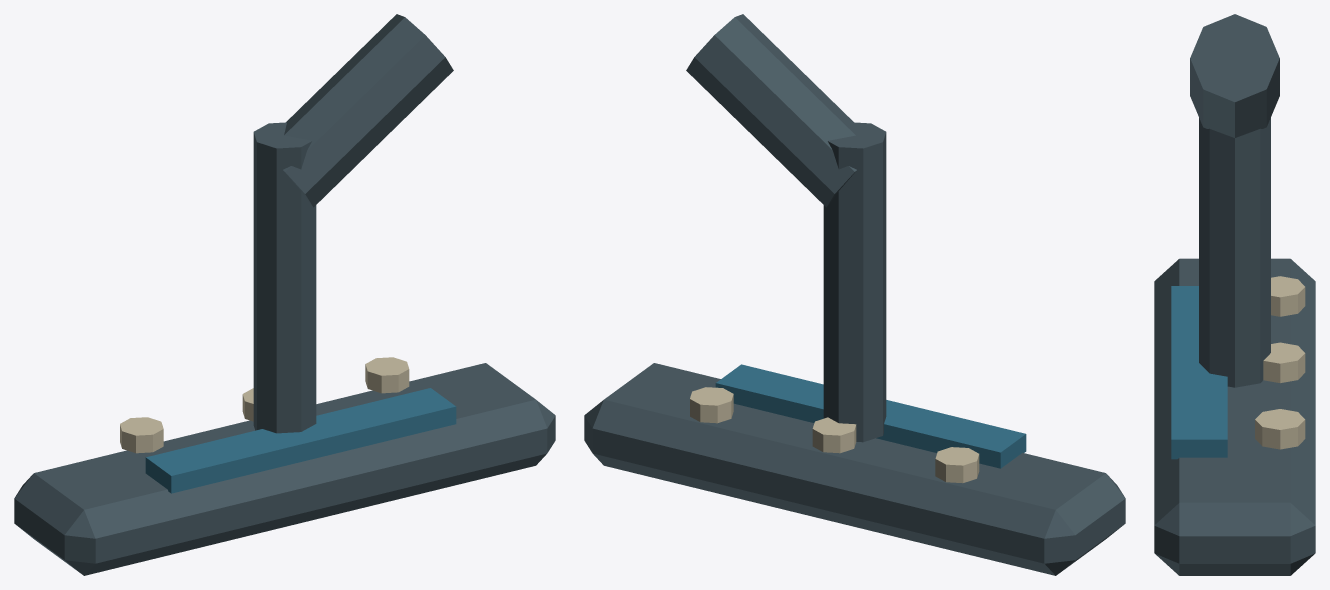
The model's file is set_microscope.glb.
3 views of the same model, side by side, from view 1: azimuth 30°, elevation 25°; view 2: azimuth 150°, elevation 25°; view 3: azimuth 270°, elevation 25° (orthographic). The views are drawn at different scales.
Parts seen in each view (by area): view 1: set_microscope; view 2: set_microscope; view 3: set_microscope.
Part boxes in pixels (x1,y1,x2,y2): set_microscope: [14, 14, 555, 575]; set_microscope: [584, 14, 1125, 575]; set_microscope: [1154, 14, 1315, 575].
Size of the model in its own units: 0.35 by 0.3105 by 0.09.
